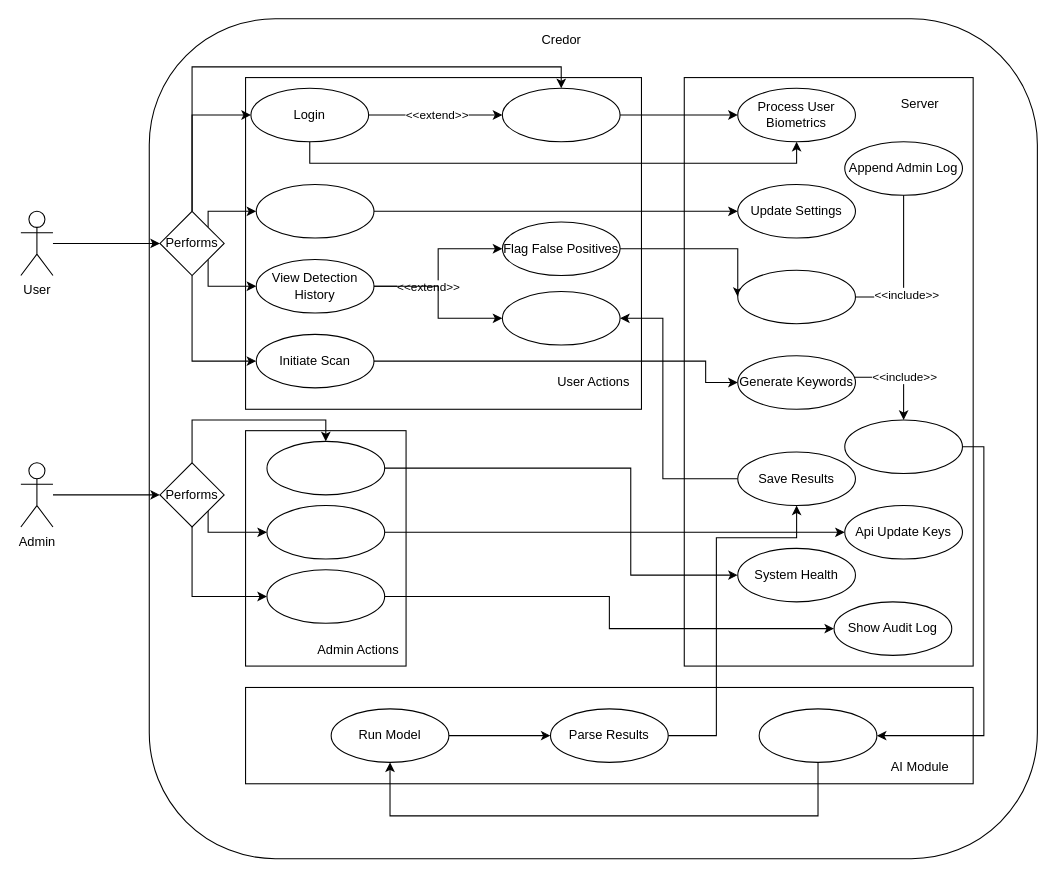
The diagram is 1056 pixels wide and 877 high, and some of its shapes have lost their labels. The centre of each missing label's shape, as x and y in pixels:
"Add Queue" belongs at pixel 817 735.
"Append User context" belongs at pixel 903 446.
"Configure Settings" belongs at pixel 314 211.
"Manage Api" belongs at pixel 325 532.
"Monitor System" belongs at pixel 325 467.
"Provide Feedback" belongs at pixel 796 296.
"Register" belongs at pixel 560 114.
"Review Log" belongs at pixel 325 596.
"Update History" belongs at pixel 560 318.
